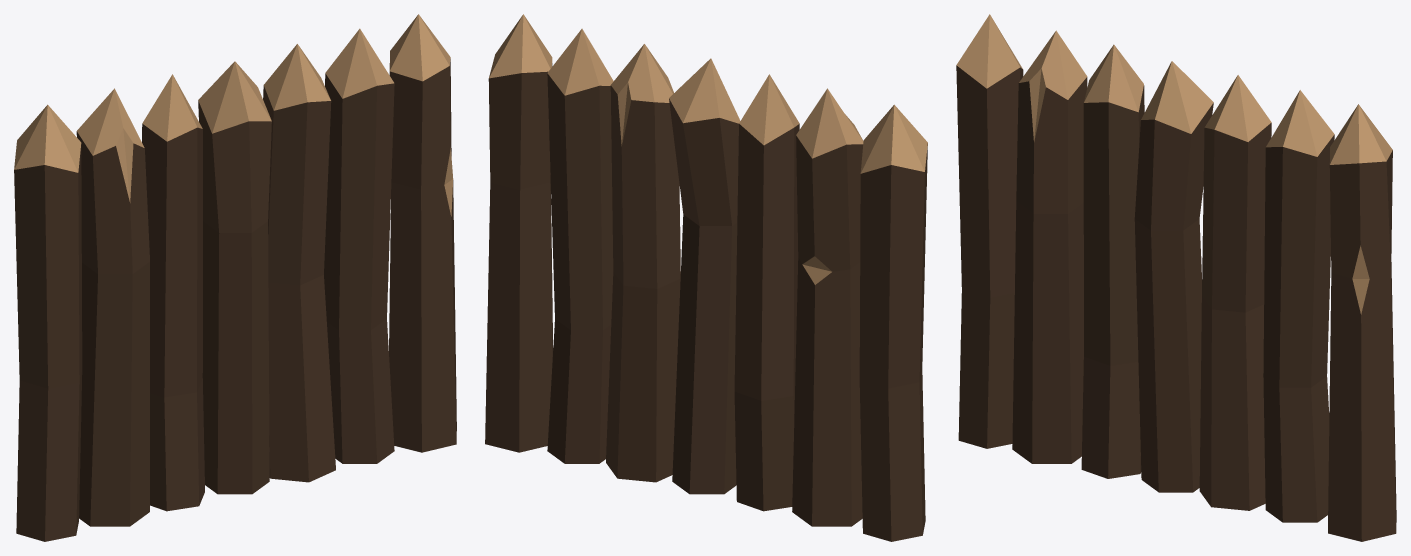
Rendered from Wallwood_1.fbx.
The picture shows the model from 3 angles, left to right: view 1: azimuth 30°, elevation 25°; view 2: azimuth 150°, elevation 25°; view 3: azimuth 330°, elevation 25°; orthographic projection.
Visible parts, largest first — view 1: Wallwood_1; view 2: Wallwood_1; view 3: Wallwood_1.
Boxes of the visible parts, x1,y1,x2,y2 form: Wallwood_1: (14,14,456,541); Wallwood_1: (485,14,927,541); Wallwood_1: (956,14,1396,541).
Size of the model in its own units: 123 by 113 by 19.7.
